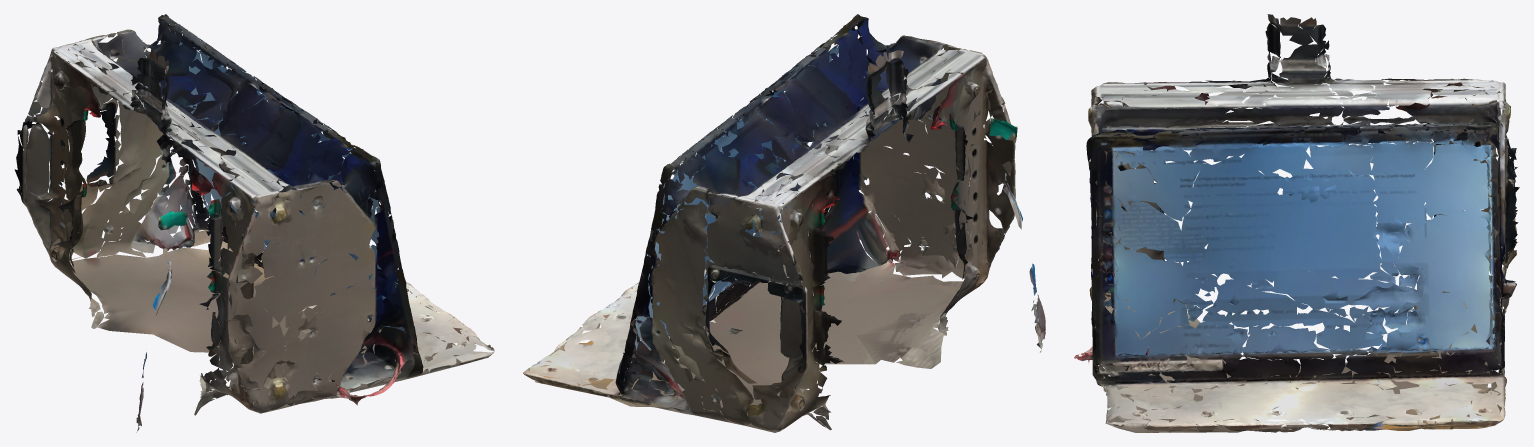
The model's file is upper_box.dae.
3 views of the same model, side by side, from view 1: azimuth 30°, elevation 25°; view 2: azimuth 150°, elevation 25°; view 3: azimuth 270°, elevation 25° (orthographic). The views are drawn at different scales.
Parts seen in each view (by area): view 1: upper_box; view 2: upper_box; view 3: upper_box.
Part boxes in pixels (box(x1,y1,x2,y2)): upper_box: box(14, 14, 494, 432); upper_box: box(523, 14, 1045, 432); upper_box: box(1074, 14, 1519, 432).
Bounding box in the file's own units: 0.3346 × 0.3812 × 0.3112.
1 material, 1 textured.
